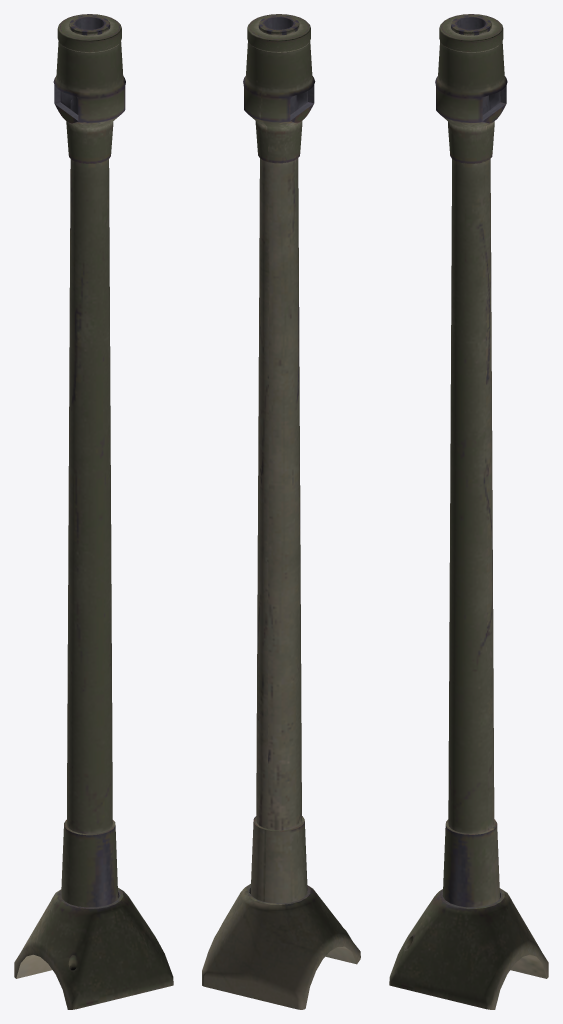
Rendered from Gun_01.glb.
3 views of the same model, side by side, from view 1: azimuth 30°, elevation 25°; view 2: azimuth 150°, elevation 25°; view 3: azimuth 330°, elevation 25° (orthographic).
Visible parts, largest first — view 1: set_0_group_0; view 2: set_0_group_0; view 3: set_0_group_0.
Part boxes in pixels (left/top/right/bottom): set_0_group_0: left=14, top=14, right=173, bottom=1009; set_0_group_0: left=202, top=14, right=360, bottom=1009; set_0_group_0: left=389, top=14, right=548, bottom=1009.
Bounding box in the file's own units: 0.5283 × 4.75 × 0.5465.
1 material, 1 textured.
